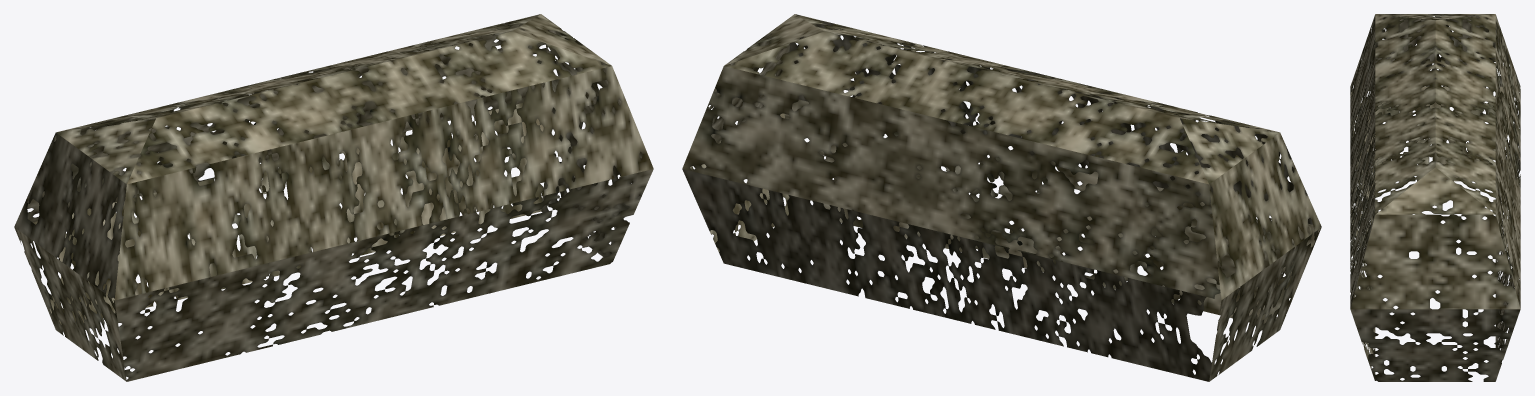
The model's file is bush_long_single_dead..fbx.
3 renders of one model, left to right at view 1: azimuth 30°, elevation 25°; view 2: azimuth 150°, elevation 25°; view 3: azimuth 270°, elevation 25°, orthographic. The views are drawn at different scales.
Visible parts, largest first — view 1: bush_long_single_dead.; view 2: bush_long_single_dead.; view 3: bush_long_single_dead..
Boxes of the visible parts, <box> form: bush_long_single_dead.: <box>14,14,653,381</box>; bush_long_single_dead.: <box>682,14,1321,381</box>; bush_long_single_dead.: <box>1350,14,1520,381</box>.
Size of the model in its own units: 223 by 87.65 by 71.91.
Materials: 1 (1 with a texture image).
